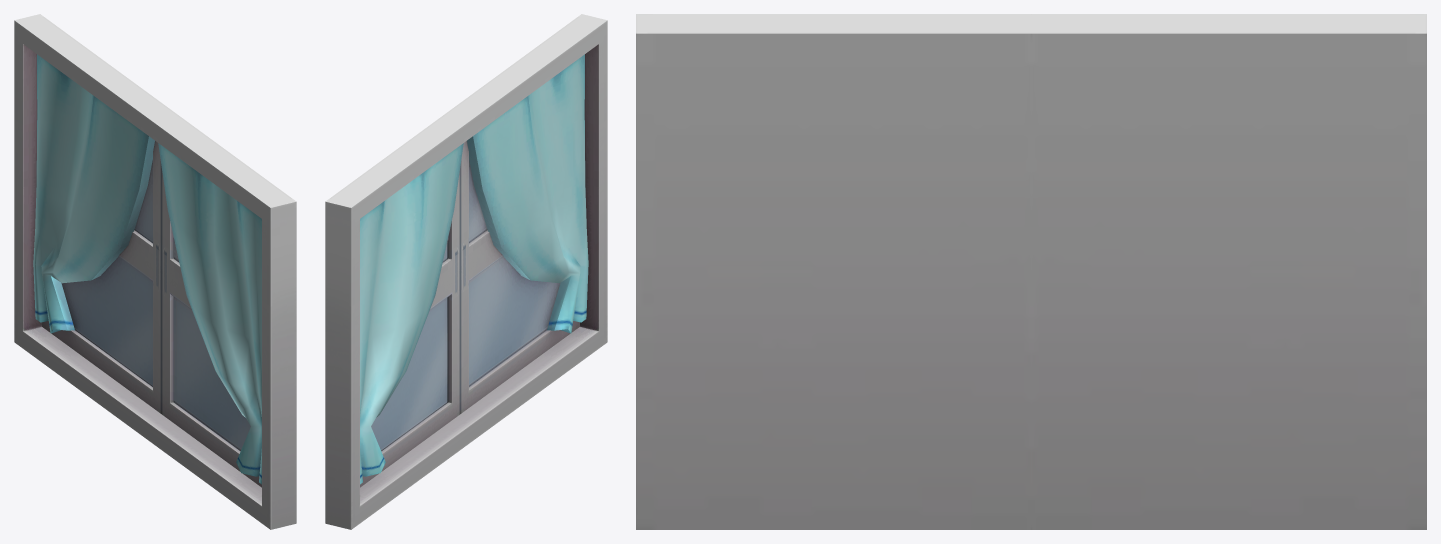
The model's file is my_defaultroom_window.glb.
The picture shows the model from 3 angles, left to right: view 1: azimuth 30°, elevation 25°; view 2: azimuth 150°, elevation 25°; view 3: azimuth 270°, elevation 25°; orthographic projection. The views are drawn at different scales.
Parts seen in each view (by area): view 1: my_defaultroom_window; view 2: my_defaultroom_window; view 3: my_defaultroom_window.
Boxes of the visible parts, left/top/right/bottom form: my_defaultroom_window: left=14, top=14, right=296, bottom=529; my_defaultroom_window: left=325, top=14, right=607, bottom=529; my_defaultroom_window: left=636, top=14, right=1426, bottom=529.
Bounding box in the file's own units: 0.000936 × 0.0111 × 0.016.
1 material, 1 textured.
